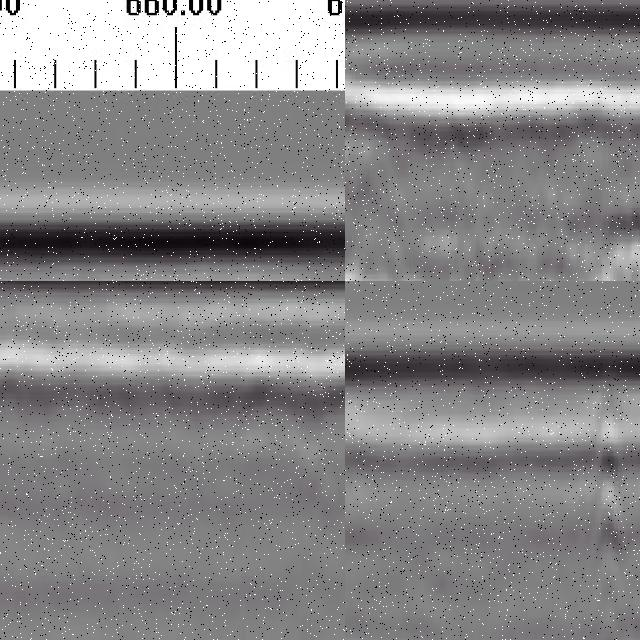crack: (592, 362, 622, 640)
loose: (346, 76, 444, 282)
